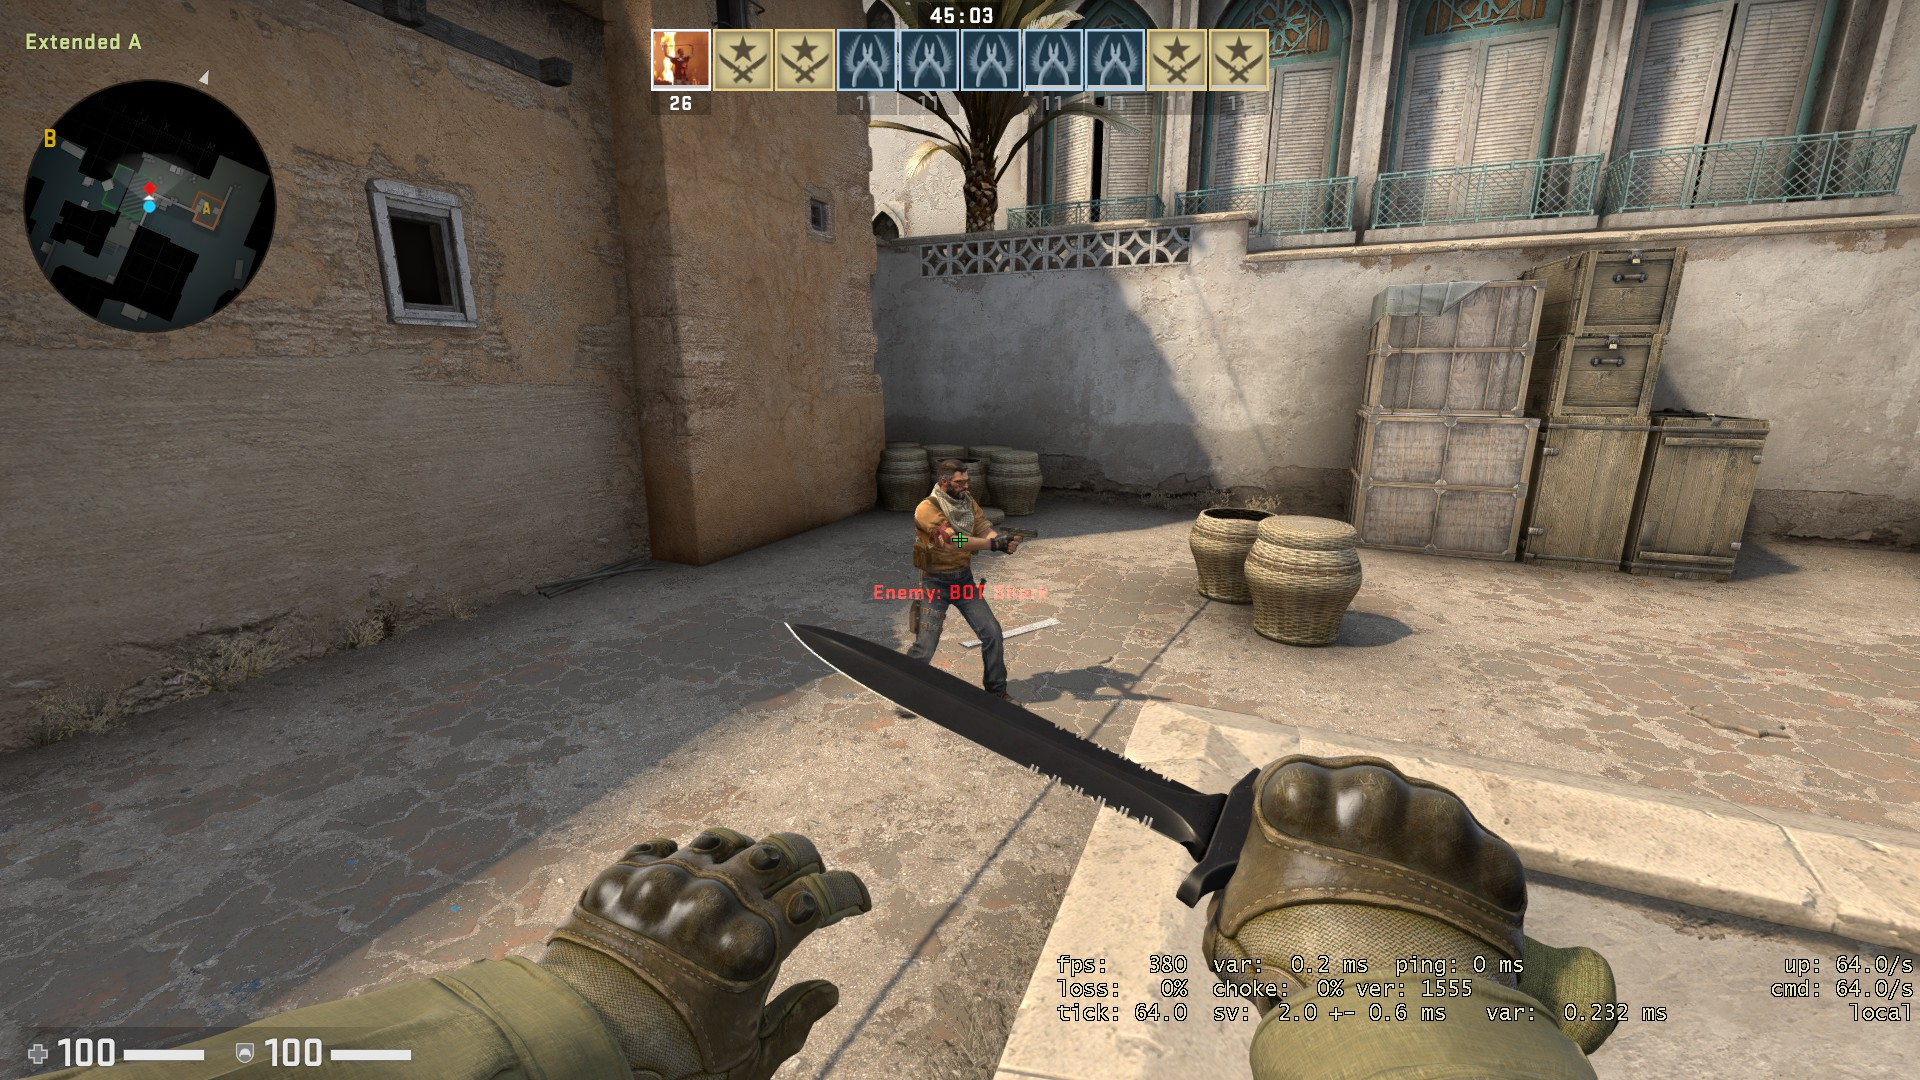player: (890, 454, 1043, 725)
